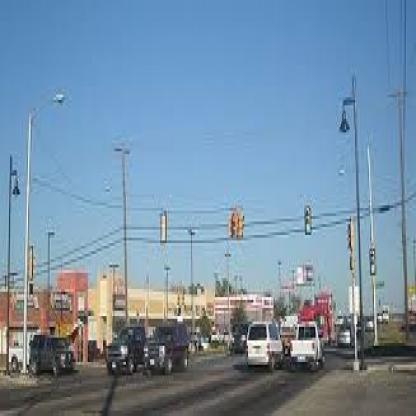car: (143, 294, 192, 387), (99, 307, 147, 391), (30, 316, 78, 384), (246, 317, 284, 387), (292, 313, 323, 377), (338, 307, 358, 363)
